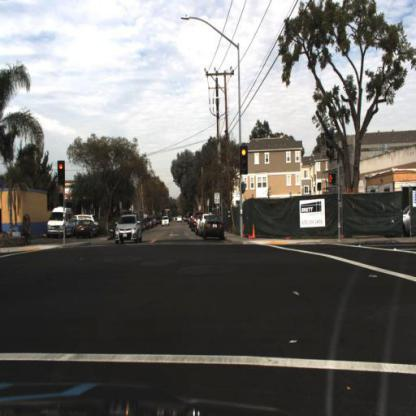car: (114, 212, 142, 246), (46, 206, 75, 238), (201, 211, 227, 244), (75, 213, 100, 238), (202, 214, 225, 241), (78, 211, 98, 228), (160, 210, 171, 228)
pedestrian: (20, 214, 33, 247), (22, 215, 33, 243)
trafficLight: (241, 145, 249, 176)
trafficLight-Red: (58, 161, 67, 188)
